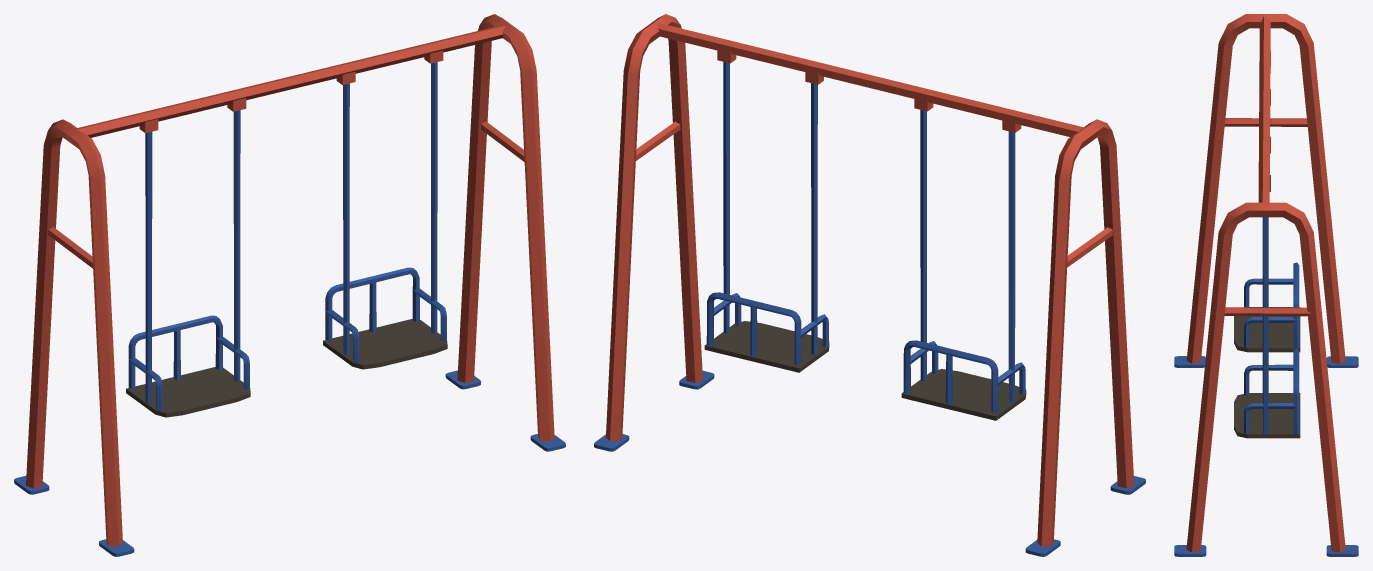
Rendered from SM_Swings_03.fbx.
3 renders of one model, left to right at view 1: azimuth 30°, elevation 25°; view 2: azimuth 150°, elevation 25°; view 3: azimuth 270°, elevation 25°, orthographic. The views are drawn at different scales.
Parts seen in each view (by area): view 1: SM_Swings_03; view 2: SM_Swings_03; view 3: SM_Swings_03.
Boxes of the visible parts, x1,y1,x2,y2 form: SM_Swings_03: [14, 14, 565, 556]; SM_Swings_03: [594, 14, 1145, 556]; SM_Swings_03: [1174, 14, 1358, 556].
Size of the model in its own units: 307 by 253 by 121.
